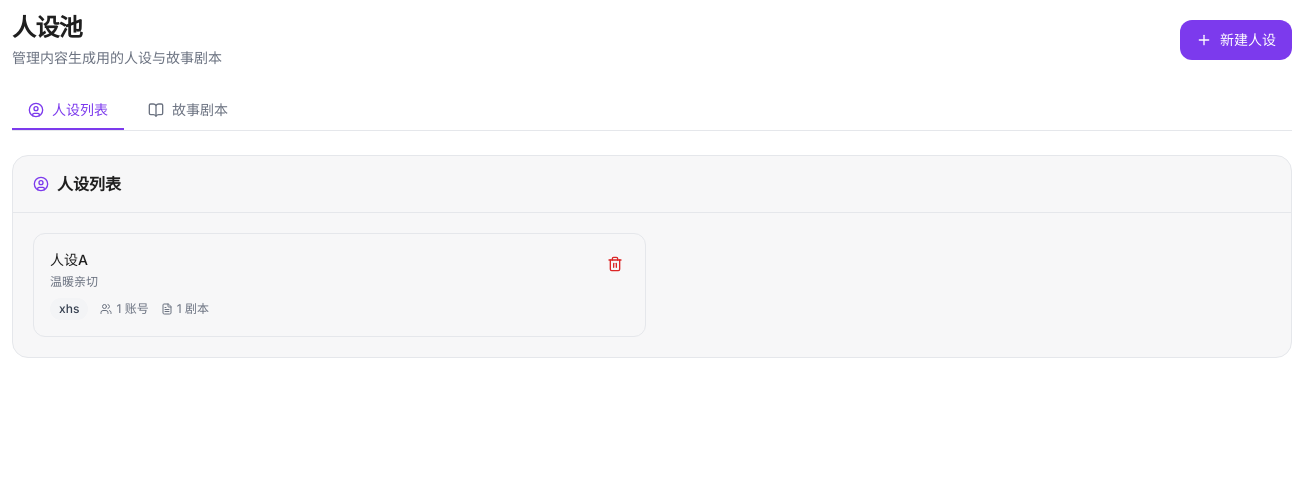
Test: PersonasPage › switches to stories tab and renders story list
Click the button "故事剧本" at (188, 111), box [132,92,244,130]
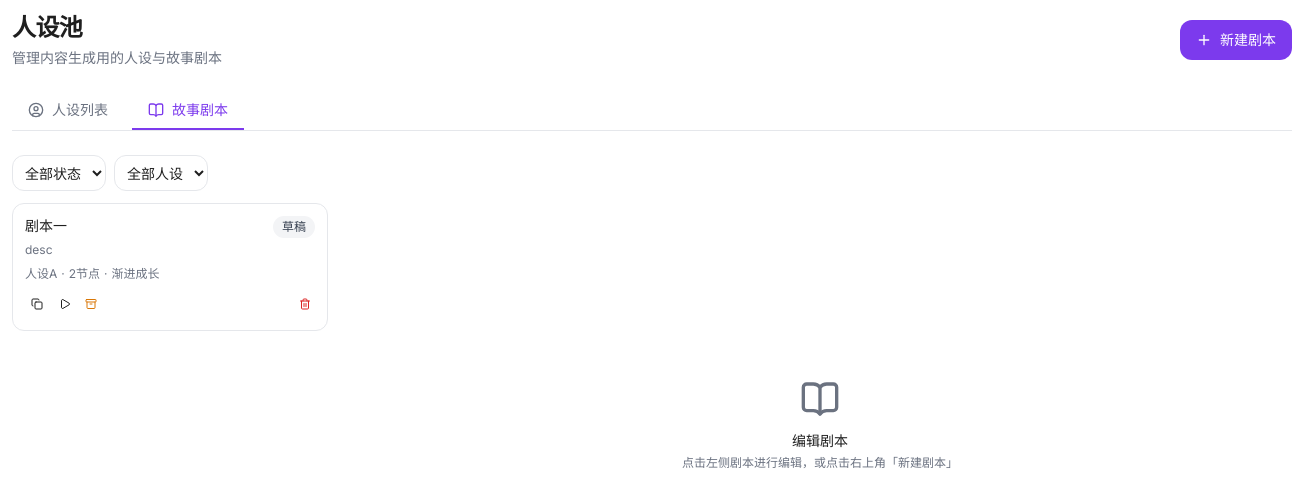
Check: the heading "剧本一" is shown, box [25,217,67,234]
